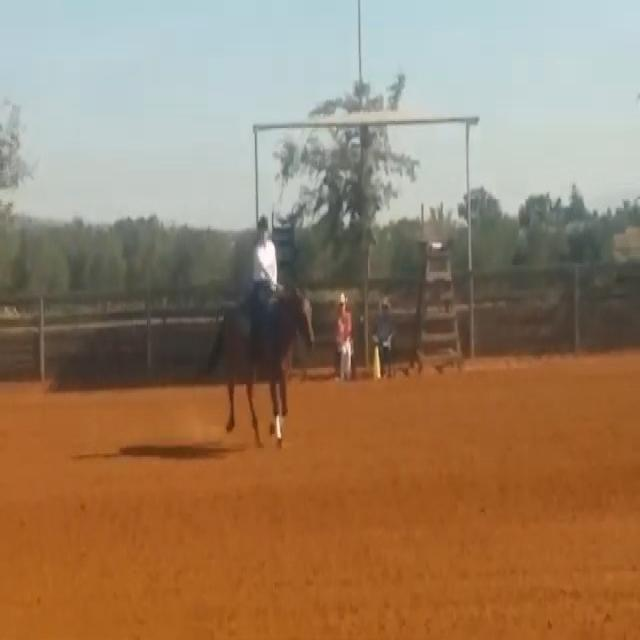horse: (205, 281, 315, 450)
